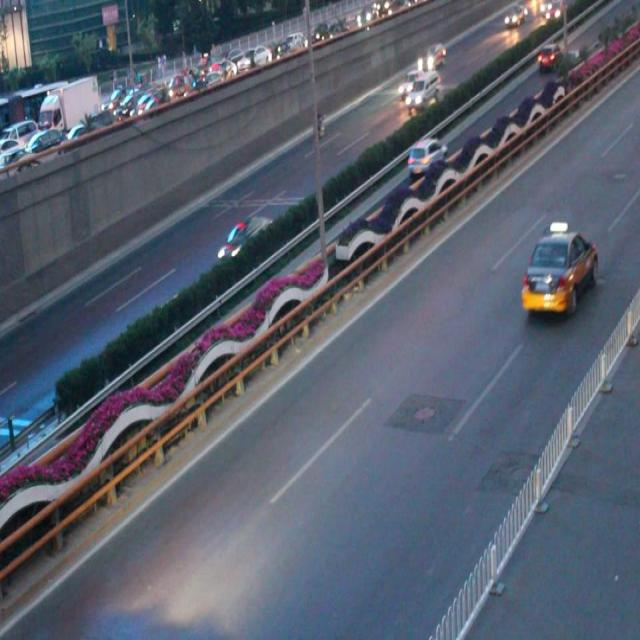car: (519, 220, 596, 317), (217, 216, 272, 260), (405, 133, 446, 175), (396, 67, 422, 99)
truck: (406, 73, 440, 111)
